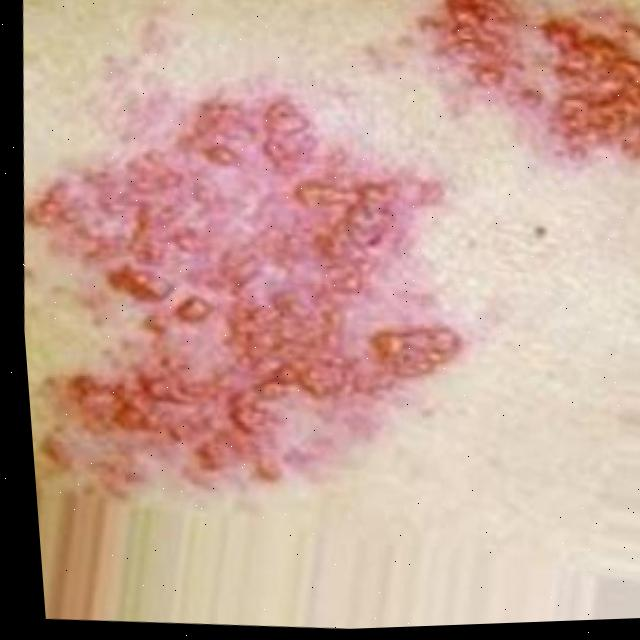Shingles: (12, 71, 471, 490), (428, 0, 640, 170)
